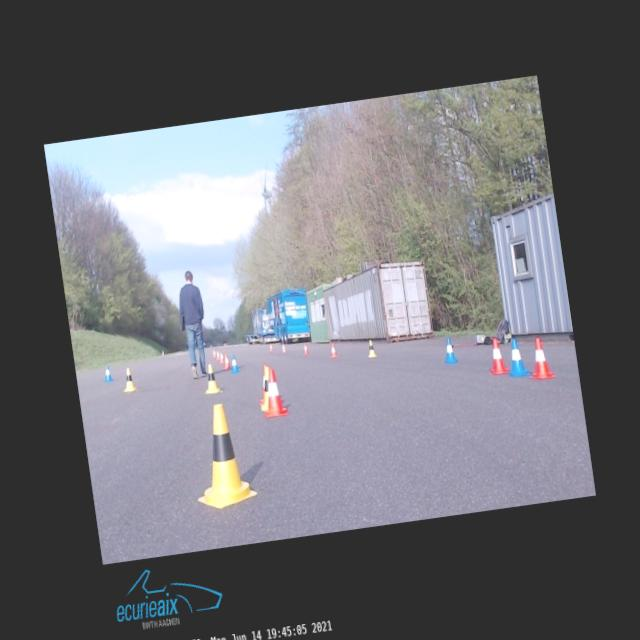blue_cone: (504, 338, 530, 378), (442, 337, 458, 364), (229, 354, 240, 374), (103, 365, 113, 382)
orange_cone: (258, 367, 288, 418), (524, 337, 556, 381), (486, 338, 509, 376), (255, 364, 272, 405), (222, 353, 231, 370), (330, 342, 338, 358), (218, 351, 224, 363), (302, 344, 308, 354), (216, 350, 220, 360), (212, 350, 216, 358), (282, 344, 286, 352), (269, 344, 273, 351)
yellow_cone: (186, 400, 258, 510), (256, 367, 274, 411), (200, 362, 222, 394), (120, 367, 136, 392), (366, 340, 378, 358)
